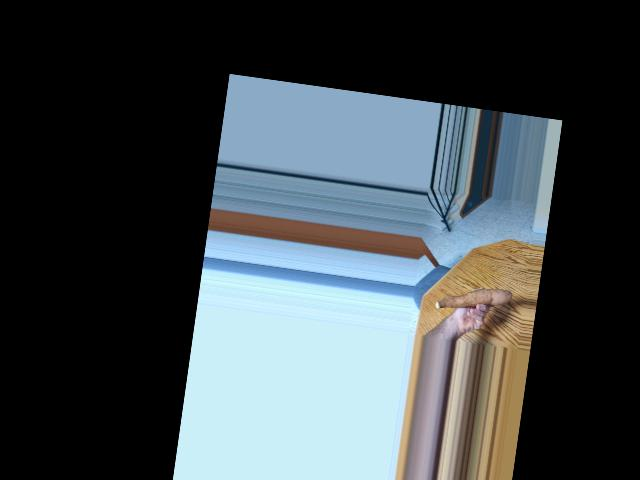sweet_potato: (436, 276, 510, 319)
